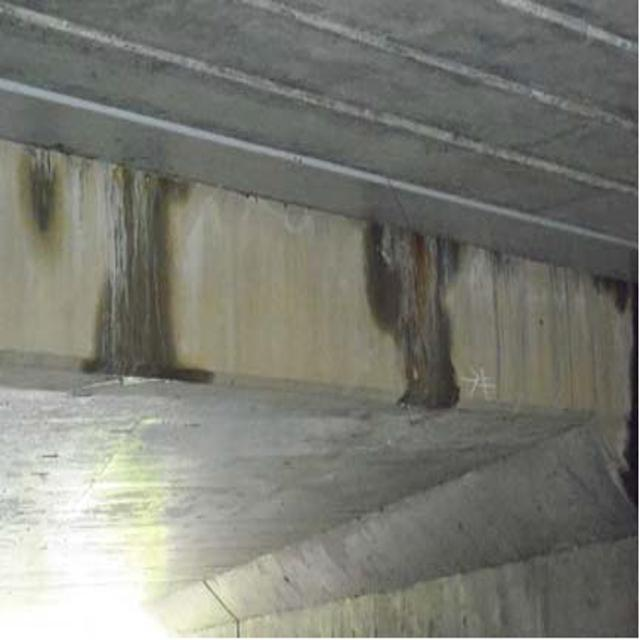leakage: (23, 130, 224, 403), (354, 209, 470, 417)
